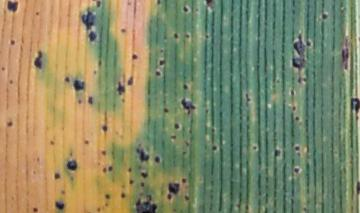tarspot: (290, 30, 312, 85), (134, 193, 157, 213), (81, 6, 96, 31), (339, 35, 349, 72), (135, 142, 151, 163), (181, 95, 196, 115), (31, 49, 44, 70), (349, 97, 360, 121), (5, 1, 20, 14), (72, 78, 85, 93), (167, 182, 181, 195), (65, 159, 79, 172), (86, 30, 98, 44), (115, 80, 125, 95), (54, 199, 66, 211), (126, 75, 136, 88), (204, 1, 215, 11), (100, 122, 109, 134), (243, 92, 252, 104), (293, 144, 301, 157), (180, 3, 189, 14), (273, 147, 281, 159), (209, 144, 219, 153), (320, 11, 329, 21), (52, 172, 62, 181), (288, 86, 295, 98), (87, 94, 94, 106), (6, 119, 15, 128), (92, 1, 102, 9), (154, 69, 162, 79), (158, 58, 166, 68), (140, 170, 149, 178), (355, 180, 360, 194), (100, 147, 107, 157), (102, 166, 109, 176), (183, 138, 190, 148), (9, 39, 17, 47), (171, 31, 179, 39), (34, 155, 42, 163), (30, 168, 38, 176), (173, 121, 180, 130), (31, 206, 40, 213), (118, 26, 127, 33), (131, 52, 138, 61), (290, 104, 297, 113), (119, 191, 126, 200), (120, 95, 126, 105), (292, 167, 300, 174), (166, 193, 173, 201), (154, 155, 161, 163), (250, 145, 258, 152), (64, 75, 71, 83), (183, 32, 191, 39), (162, 107, 170, 114), (169, 134, 177, 141), (128, 178, 135, 186), (182, 82, 188, 91), (67, 148, 73, 157), (83, 139, 90, 146), (104, 193, 111, 200), (60, 188, 67, 195), (103, 201, 110, 208), (77, 98, 83, 106), (1, 65, 7, 73), (92, 68, 98, 76), (49, 139, 55, 147), (181, 149, 187, 157), (108, 164, 113, 173), (293, 115, 300, 121), (33, 10, 40, 16), (159, 48, 165, 55), (139, 181, 145, 188), (184, 193, 189, 201), (154, 1, 162, 6), (128, 166, 133, 174), (96, 205, 101, 213), (181, 177, 187, 183), (8, 78, 14, 84), (275, 78, 281, 84), (126, 1, 132, 7), (194, 7, 200, 13), (95, 161, 101, 167), (203, 34, 210, 39), (69, 175, 74, 182)
